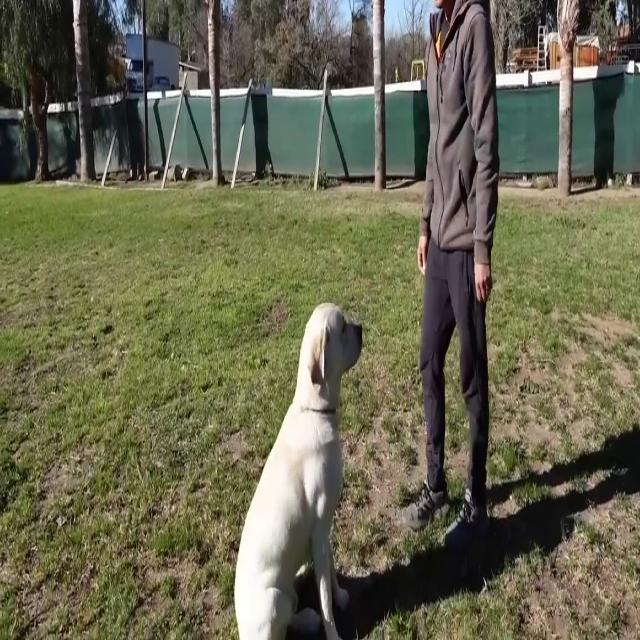Unleashed_Dog: (234, 242, 469, 640)
